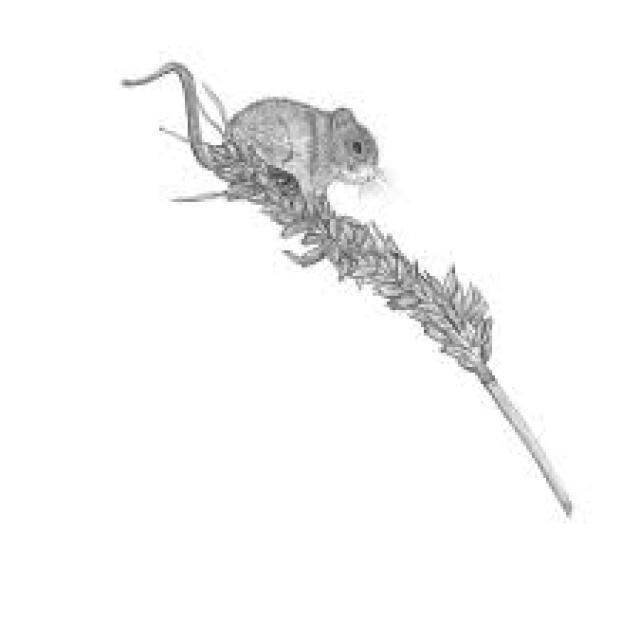Rat: (94, 38, 413, 216)
